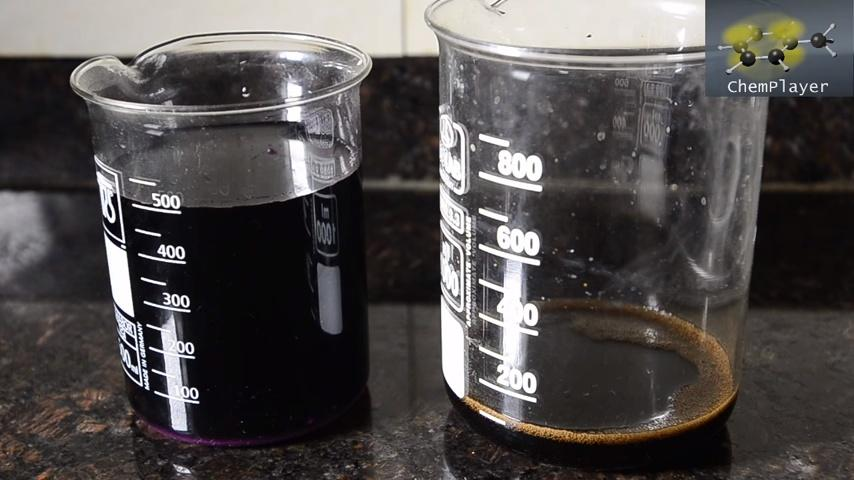Beaker: (416, 1, 769, 443), (64, 28, 384, 455)
